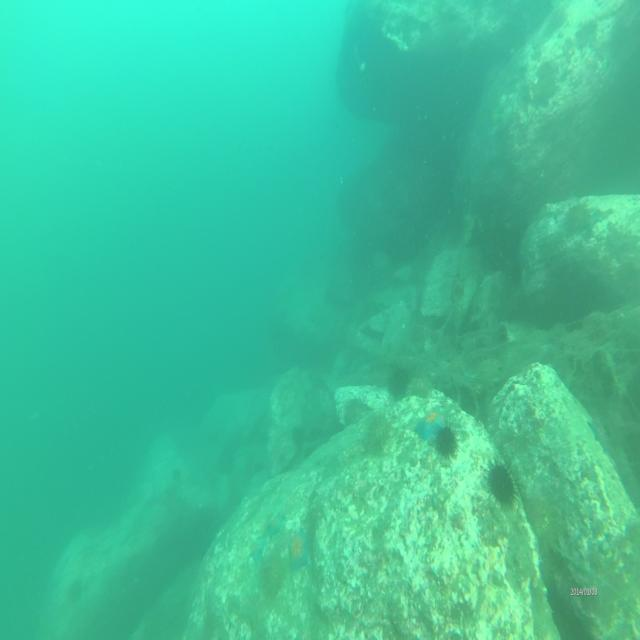echinus: (486, 462, 514, 506), (565, 202, 594, 242), (388, 363, 410, 398), (438, 425, 459, 461)
starfish: (286, 528, 310, 570), (415, 410, 442, 445), (265, 514, 285, 541), (249, 533, 266, 562)
